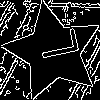L: (28, 26, 80, 64)
